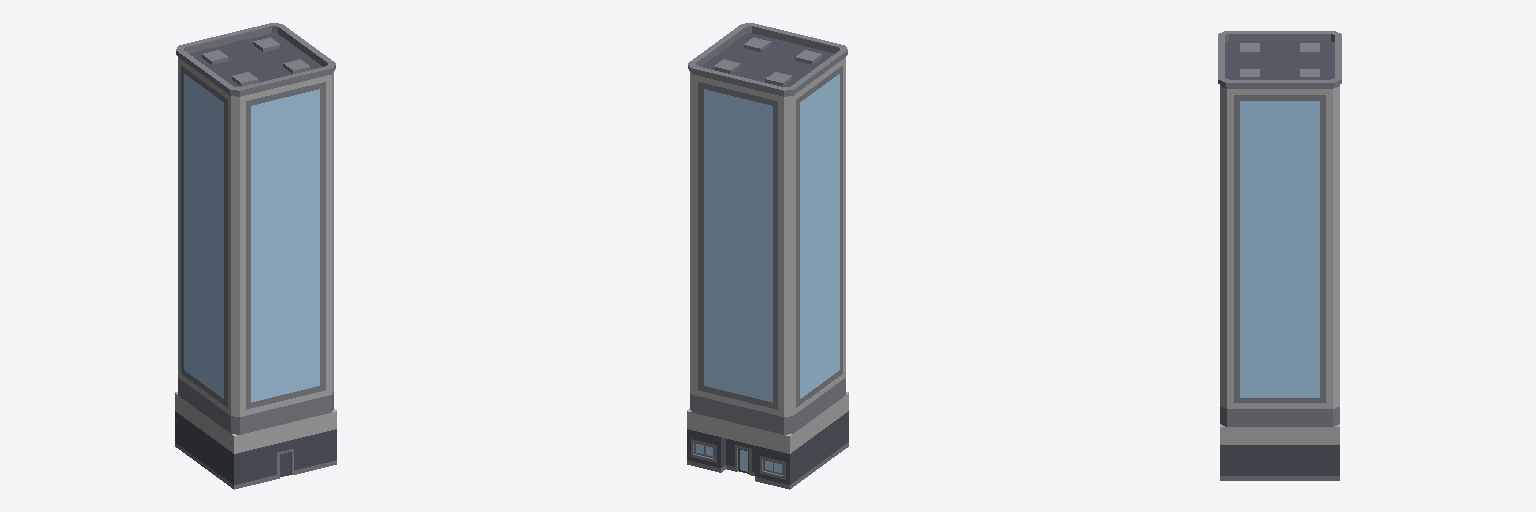
Rendered from city_skyscraper_b.obj.
The picture shows the model from 3 angles: view 1: azimuth 30°, elevation 25°; view 2: azimuth 150°, elevation 25°; view 3: azimuth 270°, elevation 25°; orthographic projection.
Parts seen in each view (by area): view 1: mergedBlocks; view 2: mergedBlocks; view 3: mergedBlocks.
Boxes of the visible parts, box(x1,y1,x2,y2) form: mergedBlocks: box(175, 23, 336, 489); mergedBlocks: box(687, 23, 848, 489); mergedBlocks: box(1218, 31, 1341, 480).
Size of the model in its own units: 1 by 3.58 by 1.